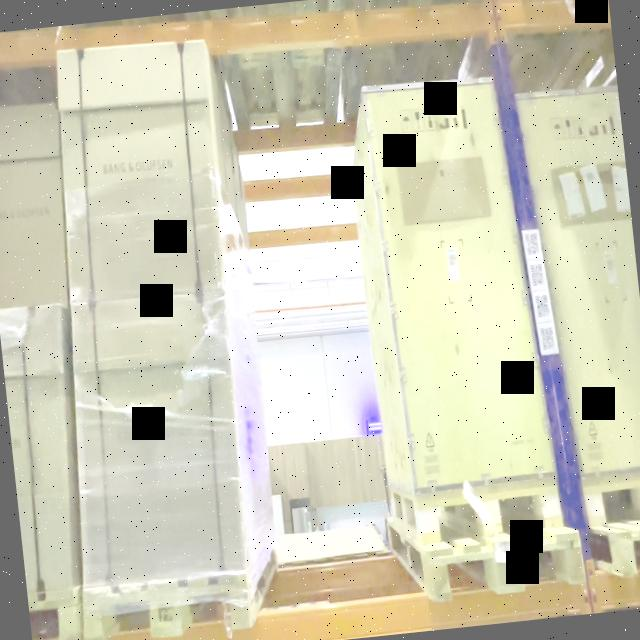box: (373, 88, 536, 486), (74, 298, 242, 575), (59, 41, 222, 304)
